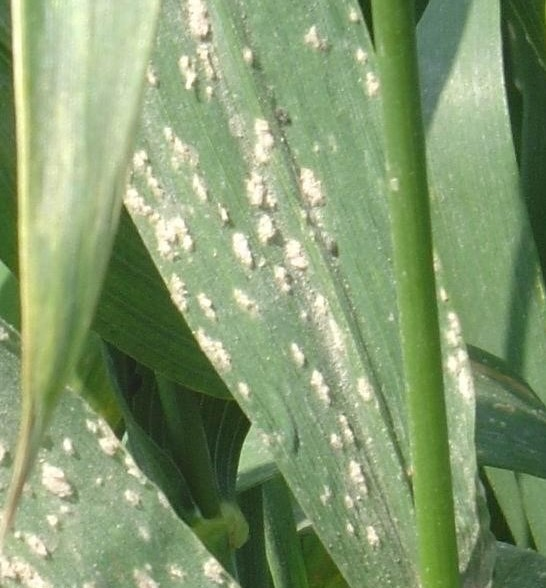Powdery Mildew: (118, 62, 408, 477)
